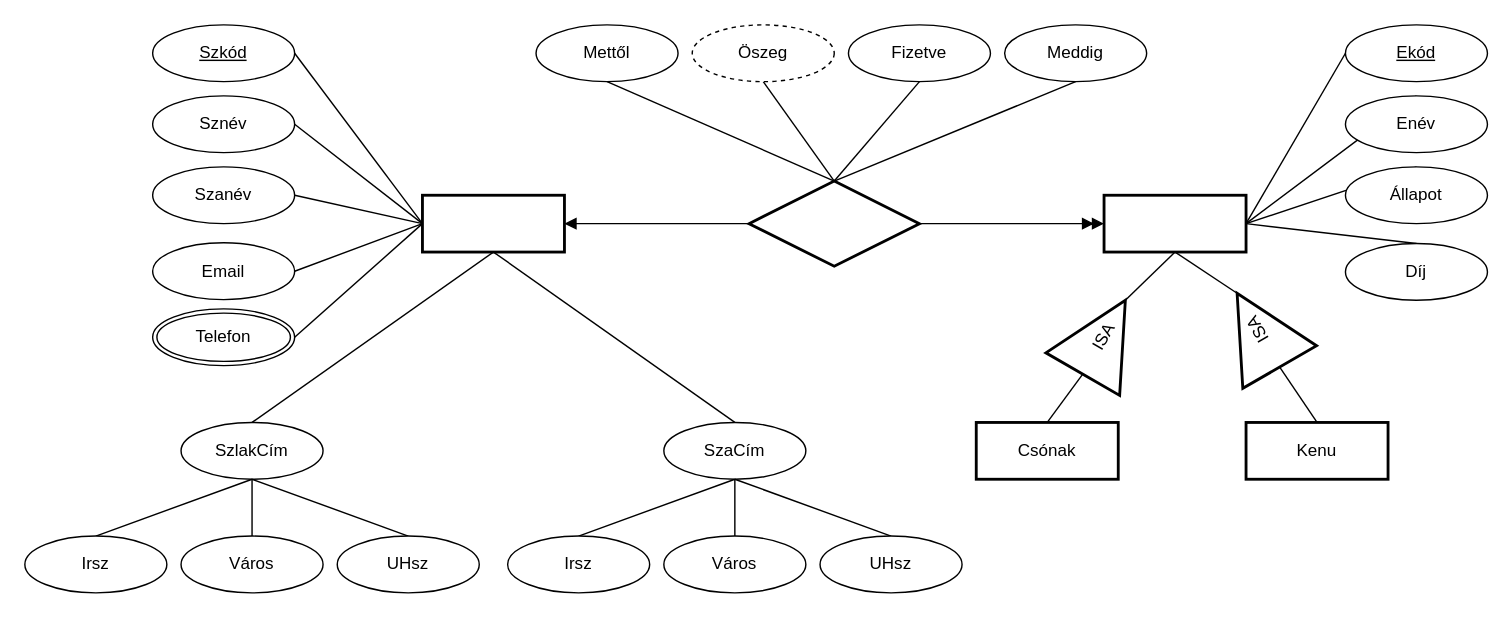
This 1512x618 diagram has some shape labels left out. The shapes that lost their labels are listed below. From the top down, each one's centre as x and y in pixels, then its label:
At [492,223]: "Személy".
At [833,223]: "Kölcsönzés".
At [1174,223]: "Eszköz".
